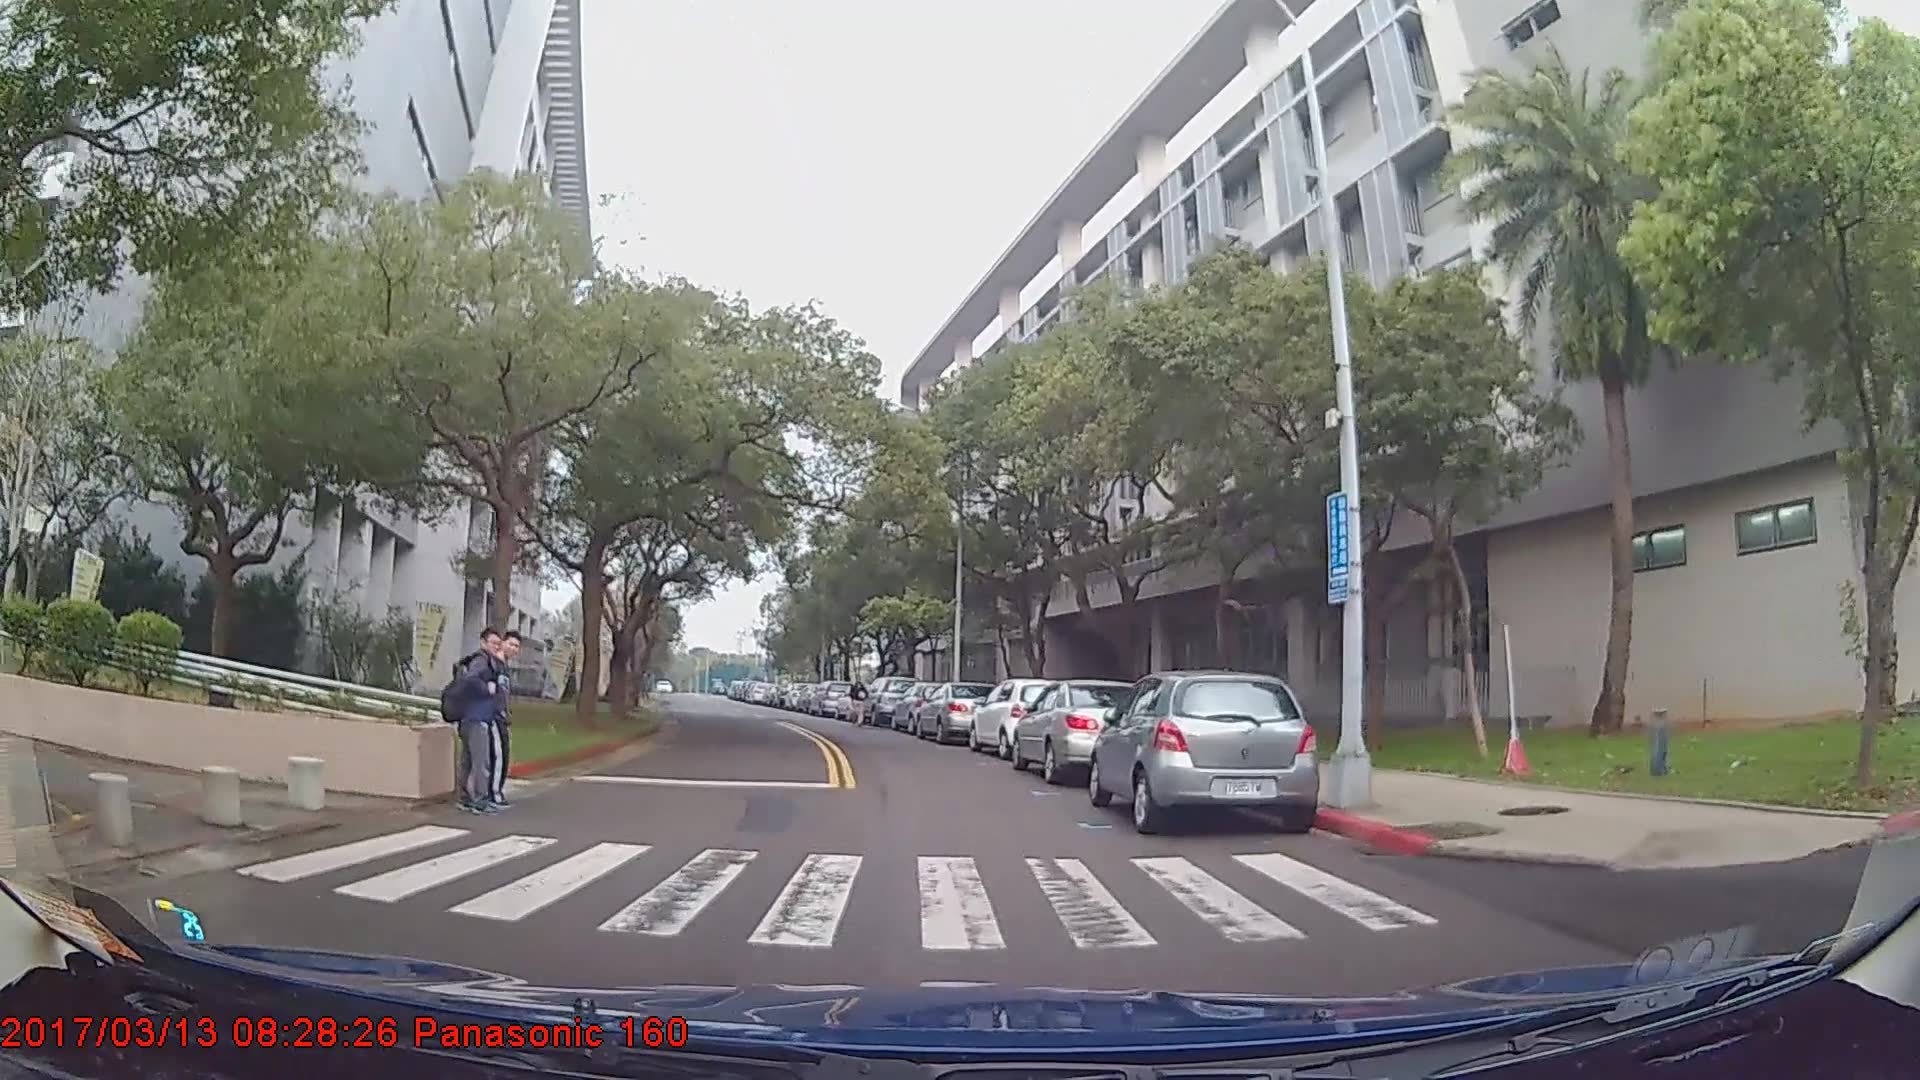pedestrian: (436, 627, 514, 824), (851, 675, 872, 728)
vehicle: (1088, 669, 1320, 836), (1010, 676, 1155, 783), (967, 675, 1070, 759), (915, 678, 1003, 743), (859, 673, 922, 724), (806, 678, 854, 715)
